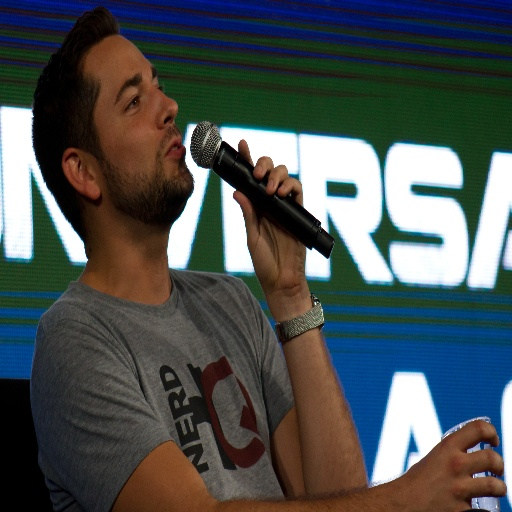hand: (232, 138, 307, 293), (401, 421, 509, 507)
